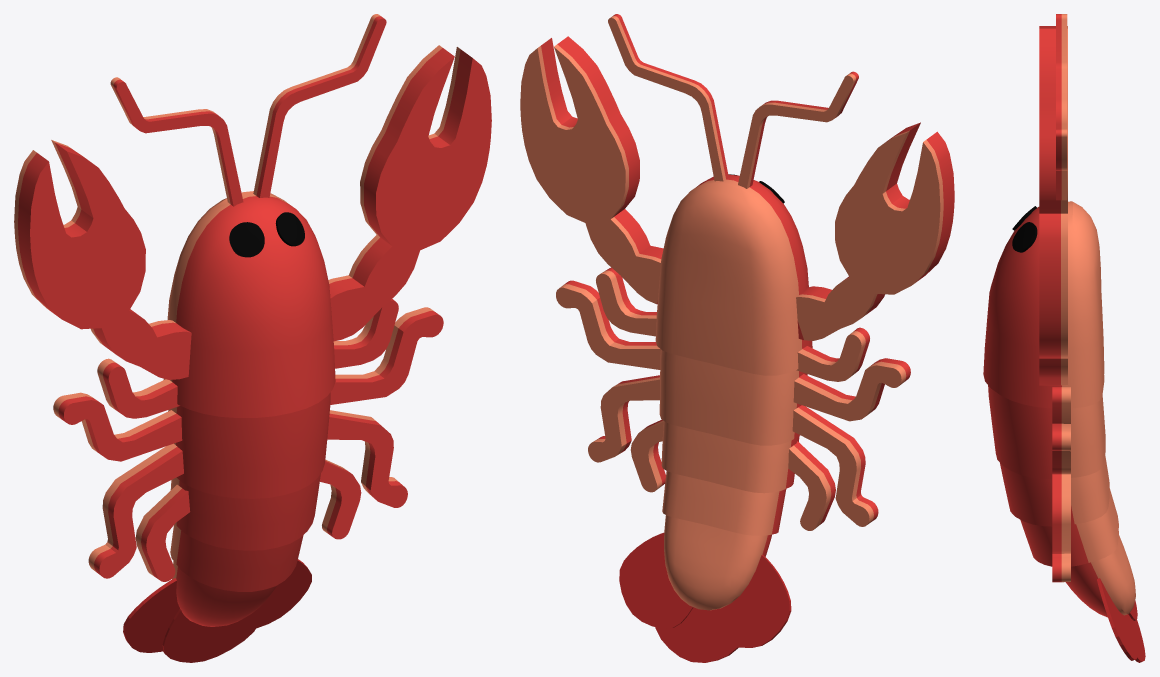
File: lobster.fbx
3 views of the same model, side by side, from view 1: azimuth 30°, elevation 25°; view 2: azimuth 150°, elevation 25°; view 3: azimuth 270°, elevation 25° (orthographic). The views are drawn at different scales.
Visible parts, largest first — view 1: Cube.184, Circle.2100; view 2: Cube.184; view 3: Cube.184, Circle.2100.
Part boxes in pixels (box(x1,y1,x2,y2)): Cube.184: box(14, 14, 491, 662); Circle.2100: box(229, 212, 304, 257); Cube.184: box(520, 14, 954, 662); Cube.184: box(983, 14, 1145, 662); Circle.2100: box(1012, 206, 1037, 252).
Size of the model in its own units: 170 by 227 by 57.06.
1 material, 1 textured.
